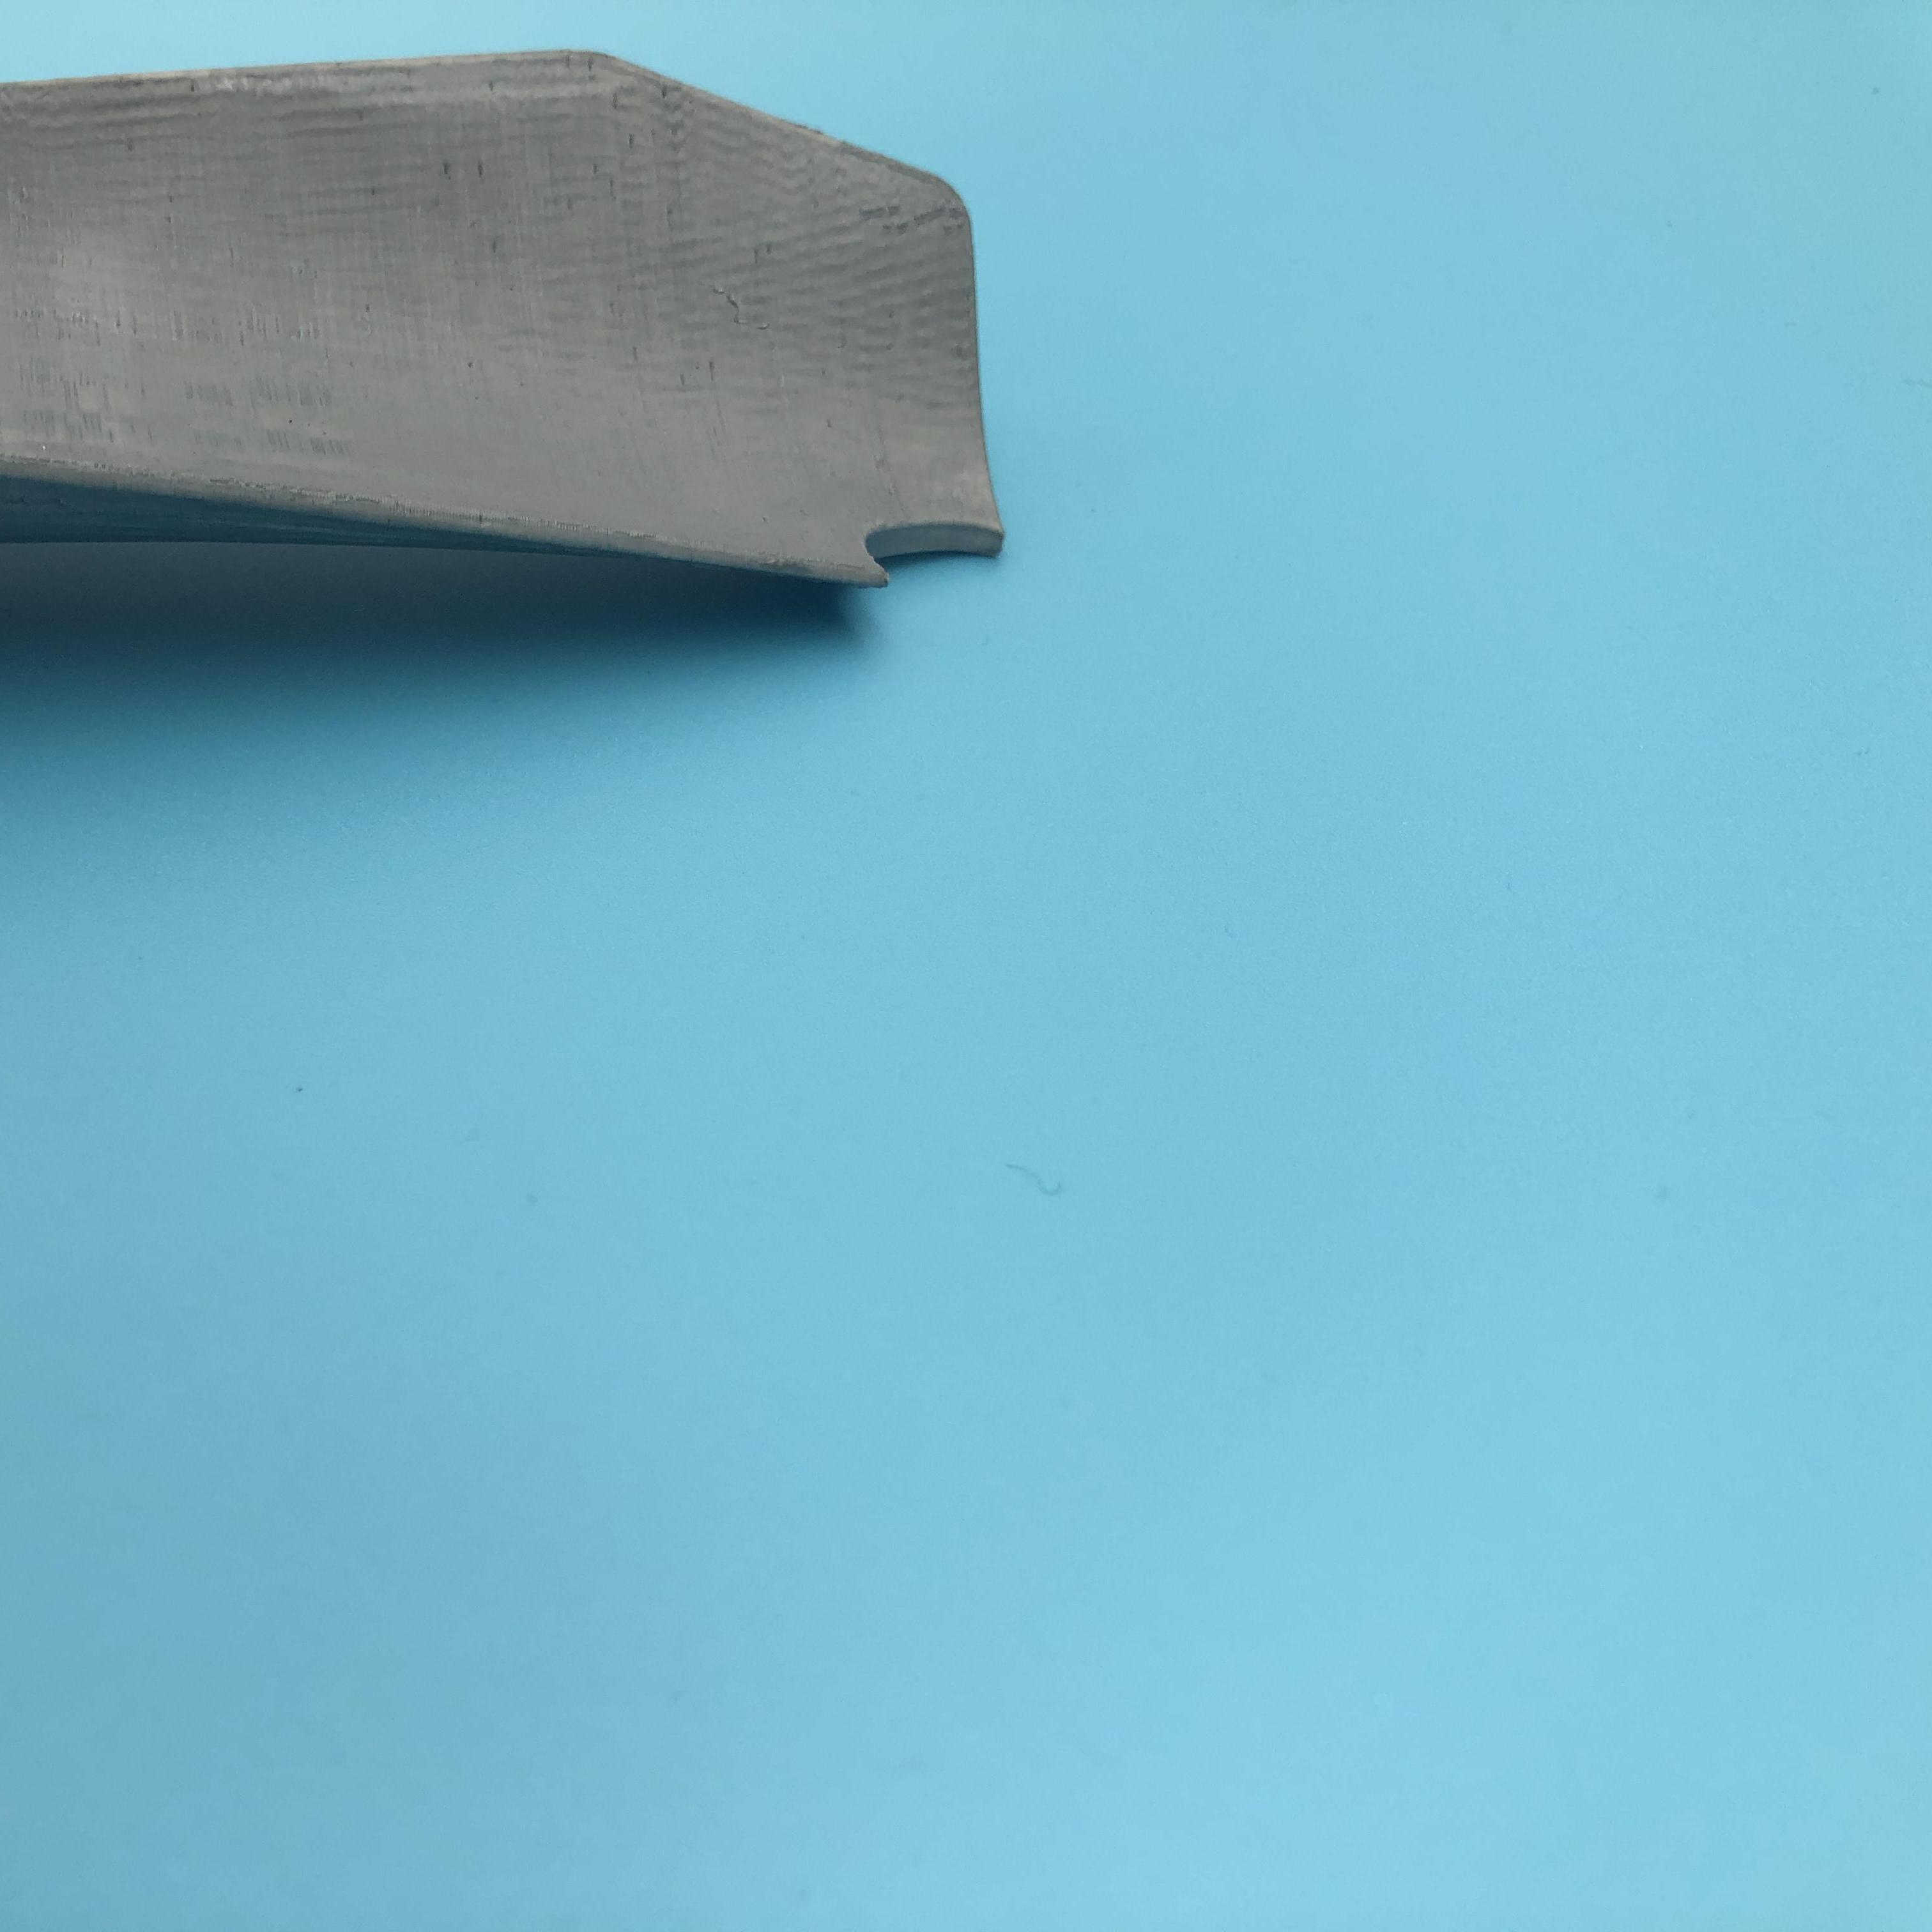fracture: (858, 515, 1005, 589)
